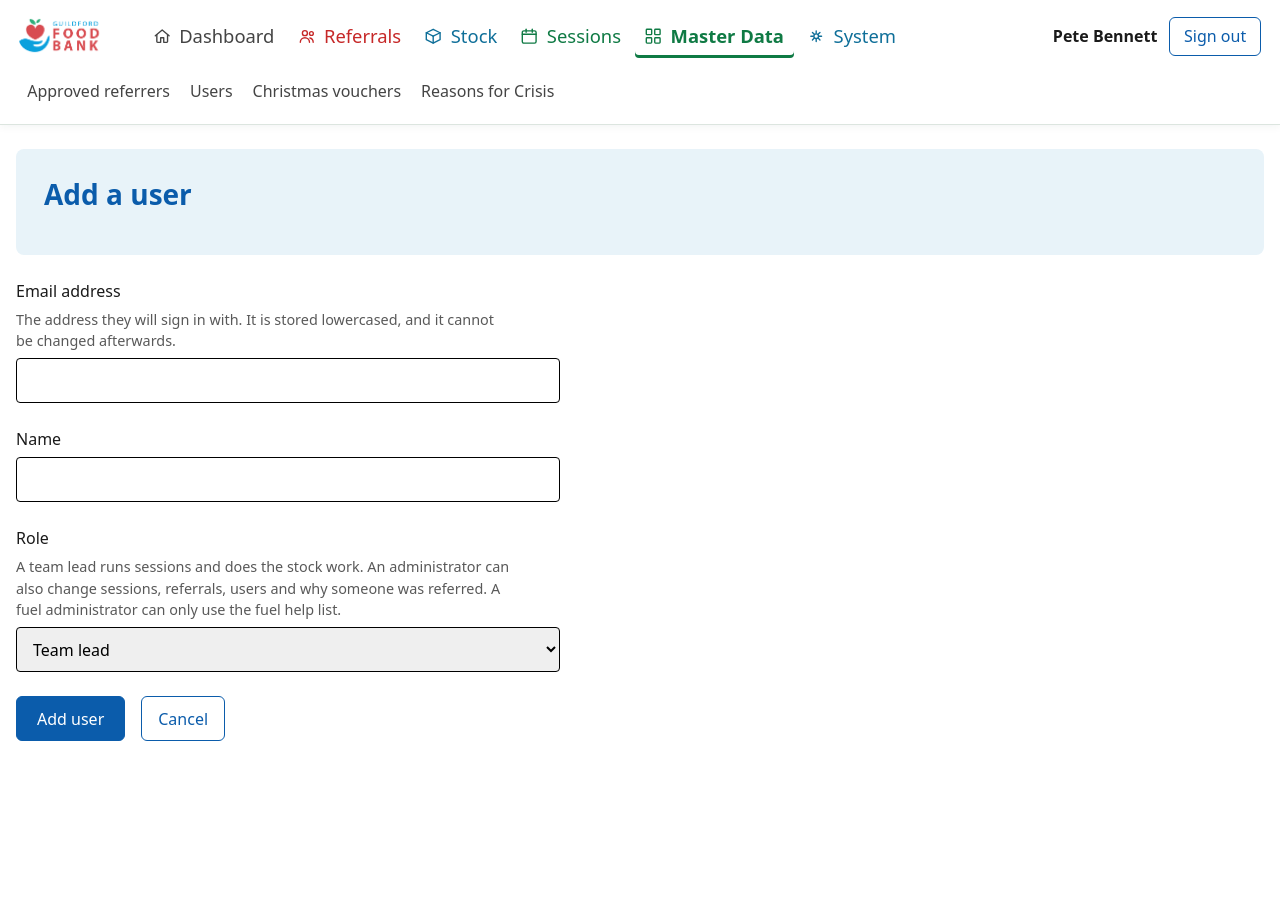
Test: adding a user › names the field the server rejected, and keeps what was typed
Type "lead@x.com" into the field labelled "Email address" at (288, 380), box [16,358,560,403]
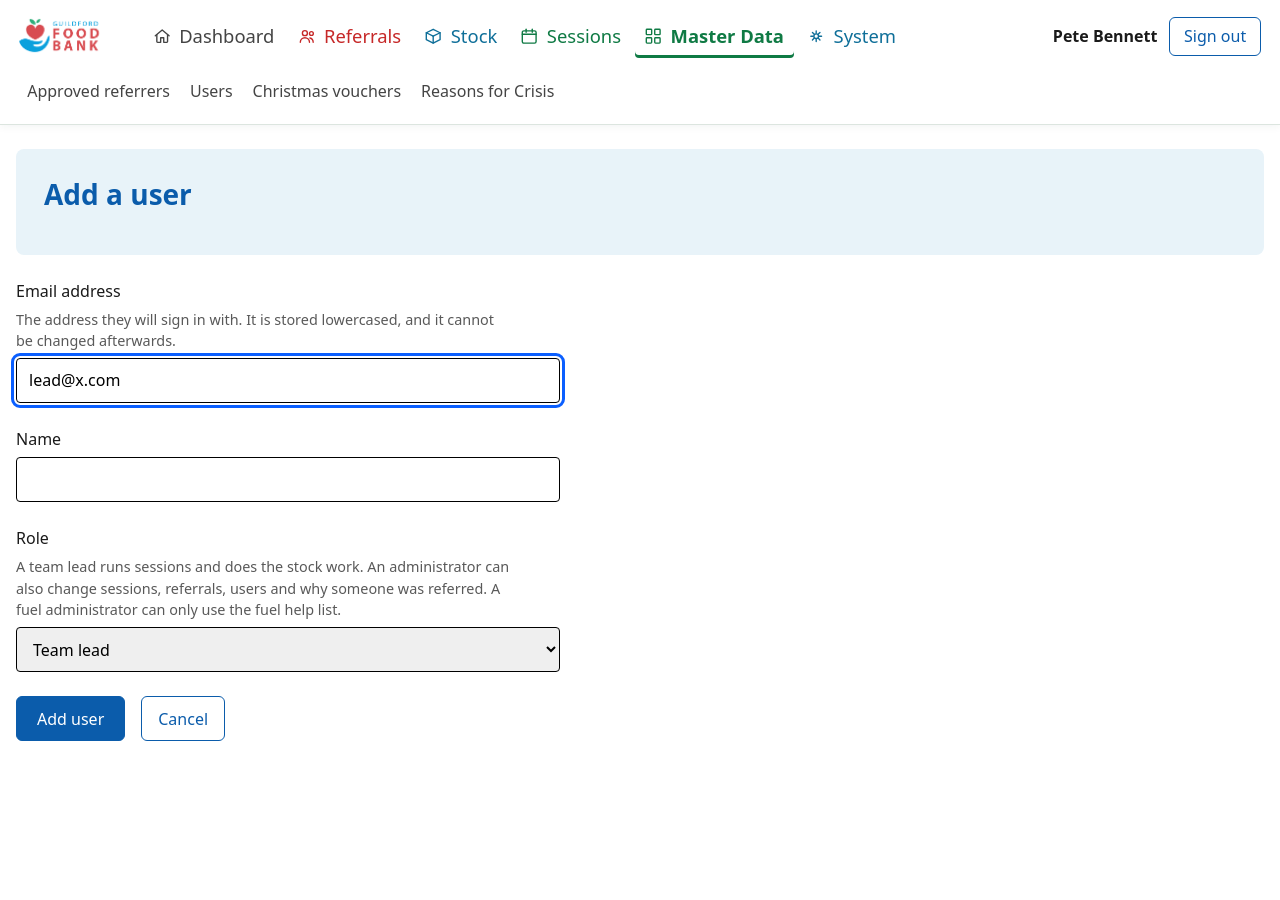
Type "Ada Lead" into the field labelled "Name" at (288, 480), box [16,457,560,502]
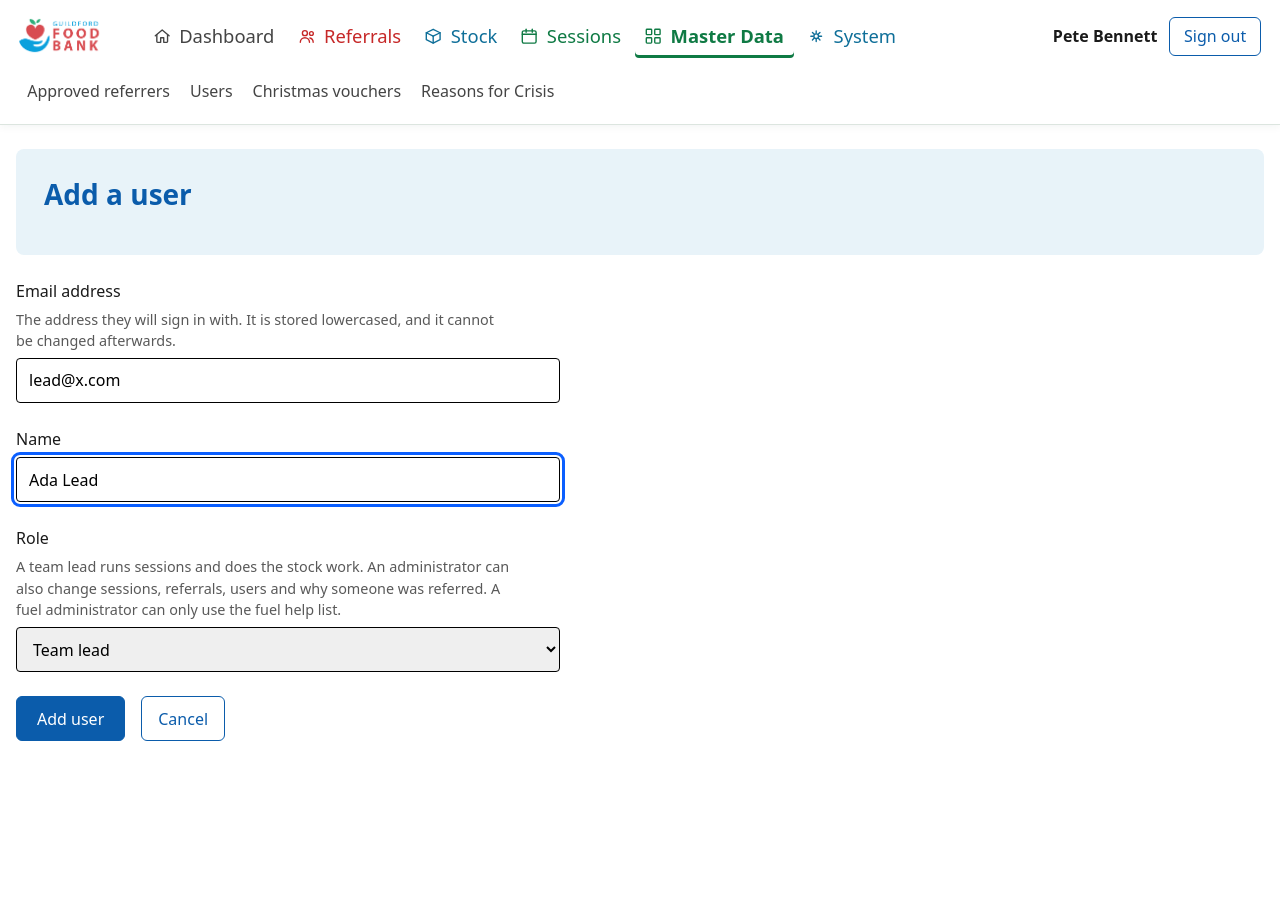
Click the button "Add user" at (71, 719), box [16,696,125,741]
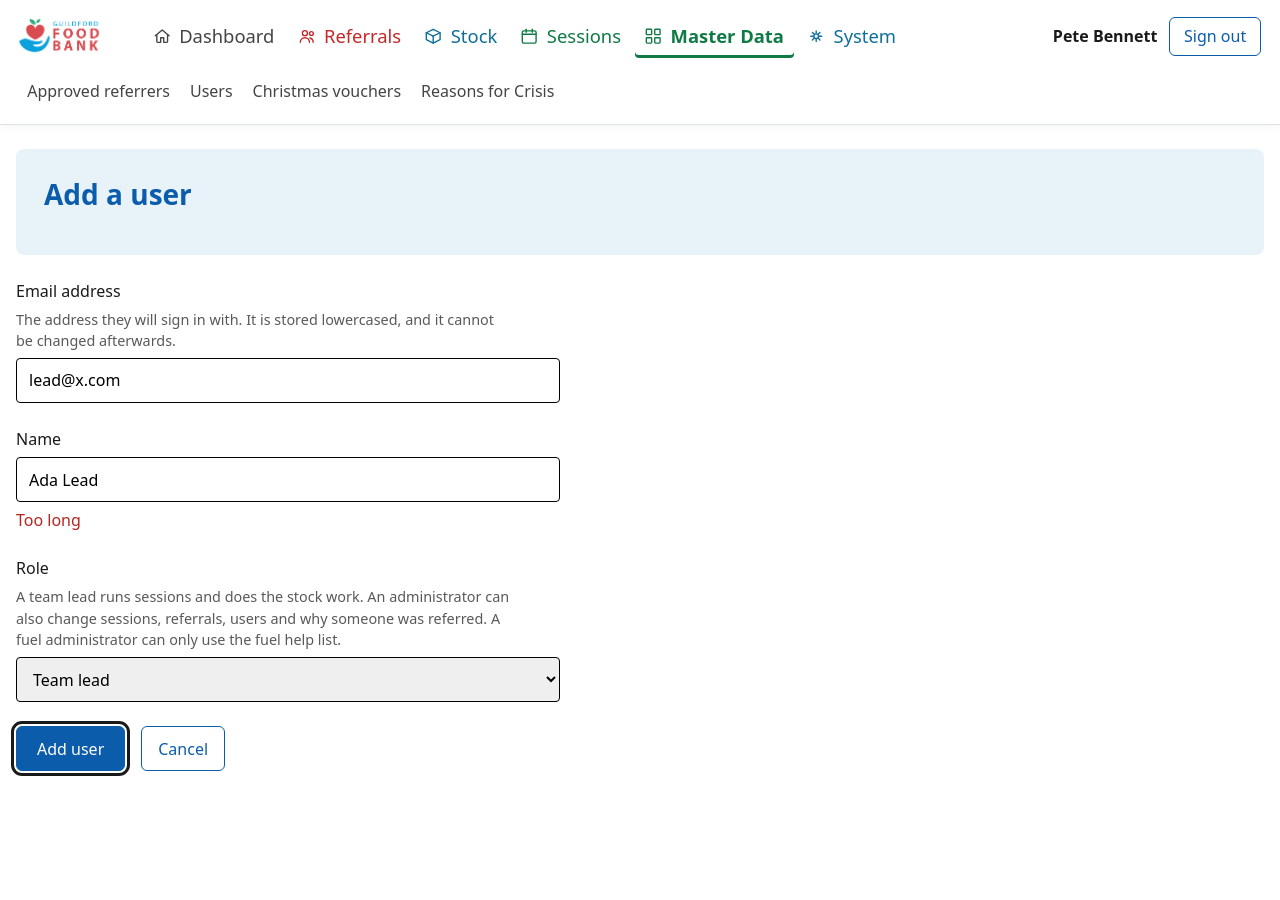
Now the text "Too long" is shown, box [16,509,81,531]
